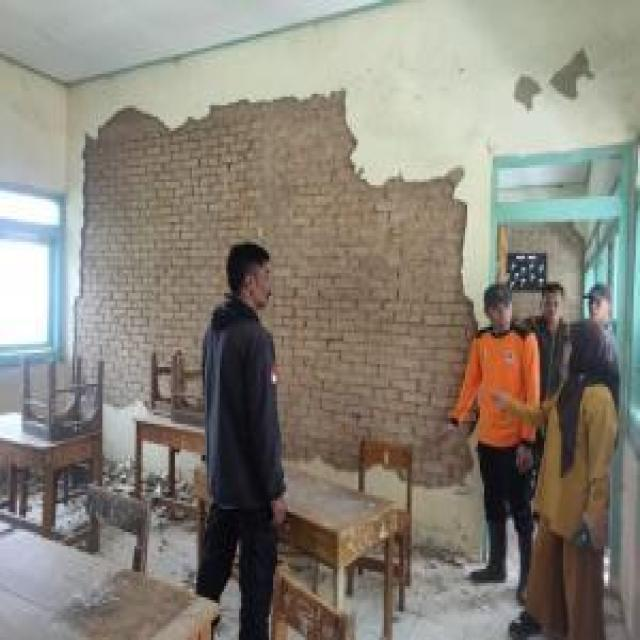damage: (43, 91, 484, 496), (30, 395, 198, 528), (503, 46, 619, 132)
